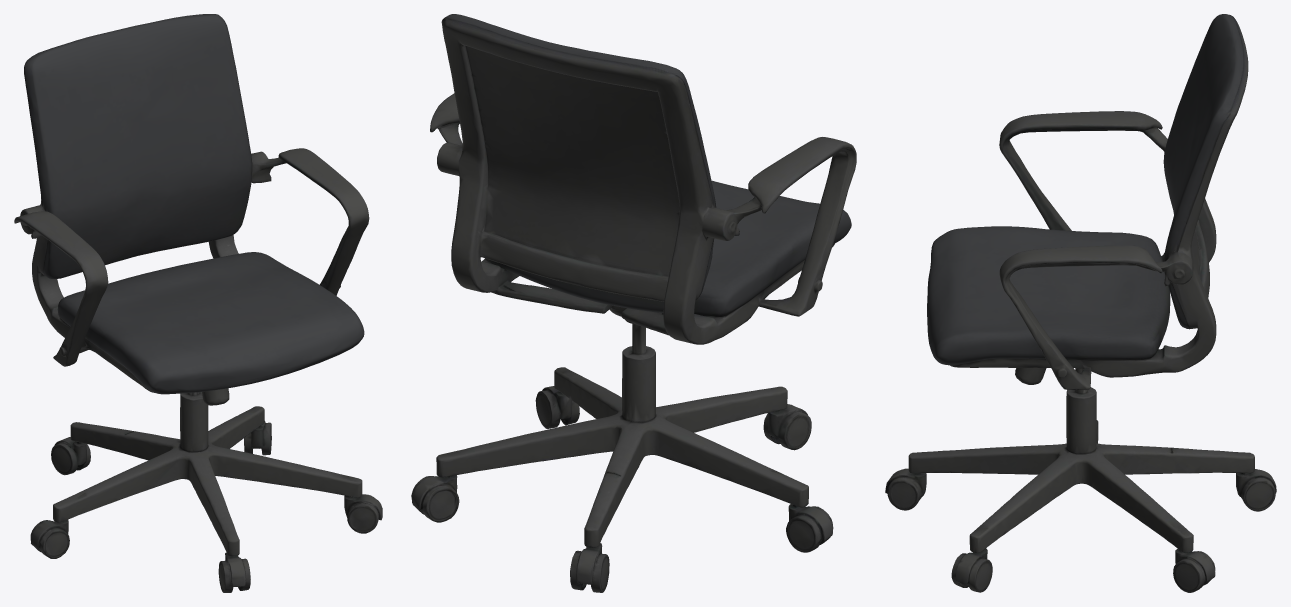
The model's file is chair-office.glb.
3 views of the same model, side by side, from view 1: azimuth 30°, elevation 25°; view 2: azimuth 150°, elevation 25°; view 3: azimuth 270°, elevation 25° (orthographic). The views are drawn at different scales.
Visible parts, largest first — view 1: tripo_node_3d94a72b-0da5-43e1-972f-299b02137c43; view 2: tripo_node_3d94a72b-0da5-43e1-972f-299b02137c43; view 3: tripo_node_3d94a72b-0da5-43e1-972f-299b02137c43.
Part boxes in pixels (left/top/right/bottom): tripo_node_3d94a72b-0da5-43e1-972f-299b02137c43: left=14, top=14, right=382, bottom=592; tripo_node_3d94a72b-0da5-43e1-972f-299b02137c43: left=411, top=14, right=856, bottom=592; tripo_node_3d94a72b-0da5-43e1-972f-299b02137c43: left=885, top=14, right=1276, bottom=592.
Size of the model in its own units: 0.7142 by 1 by 0.7581.
1 material, 1 textured.
